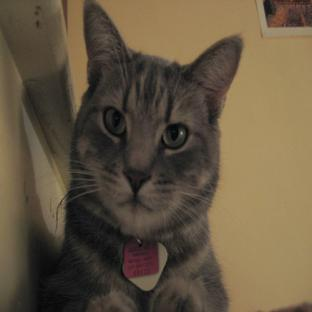Animal: (39, 0, 242, 311)
